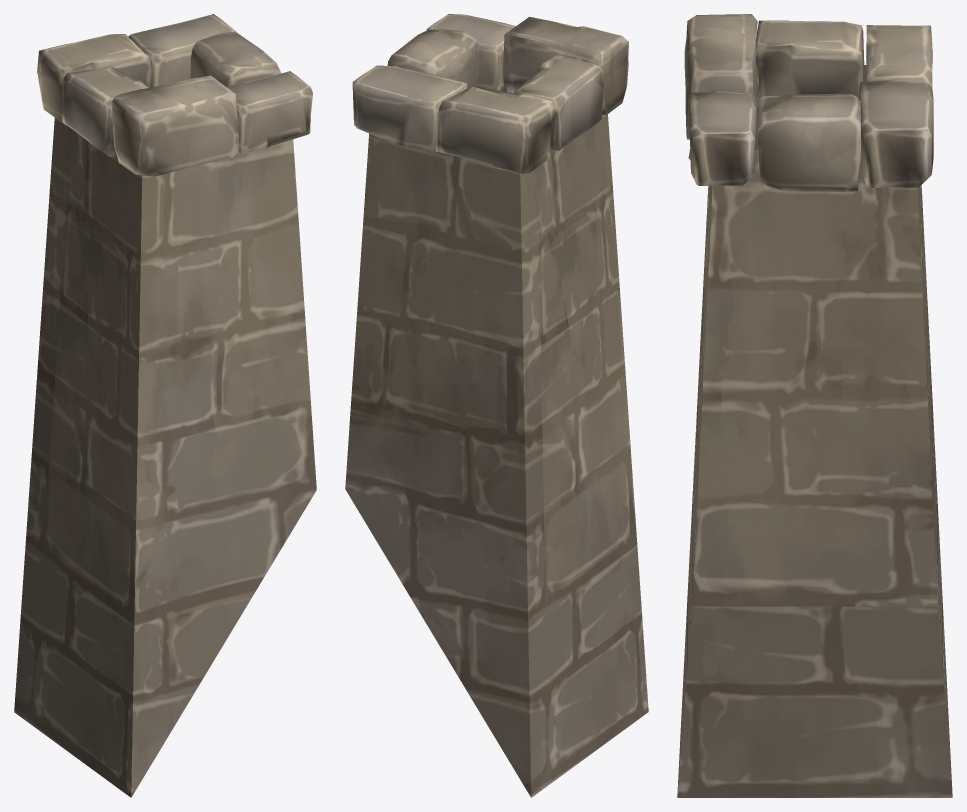
File: Prop_Chimney.gltf
The picture shows the model from 3 angles, left to right: view 1: azimuth 30°, elevation 25°; view 2: azimuth 150°, elevation 25°; view 3: azimuth 270°, elevation 25°; orthographic projection. The views are drawn at different scales.
Parts seen in each view (by area): view 1: Prop_Chimney; view 2: Prop_Chimney; view 3: Prop_Chimney.
Part boxes in pixels (x1=…): Prop_Chimney: x1=14, y1=14, x2=316, y2=797; Prop_Chimney: x1=345, y1=14, x2=648, y2=797; Prop_Chimney: x1=677, y1=14, x2=952, y2=797.
Size of the model in its own units: 0.9459 by 3.18 by 1.
2 materials, 2 textured.
